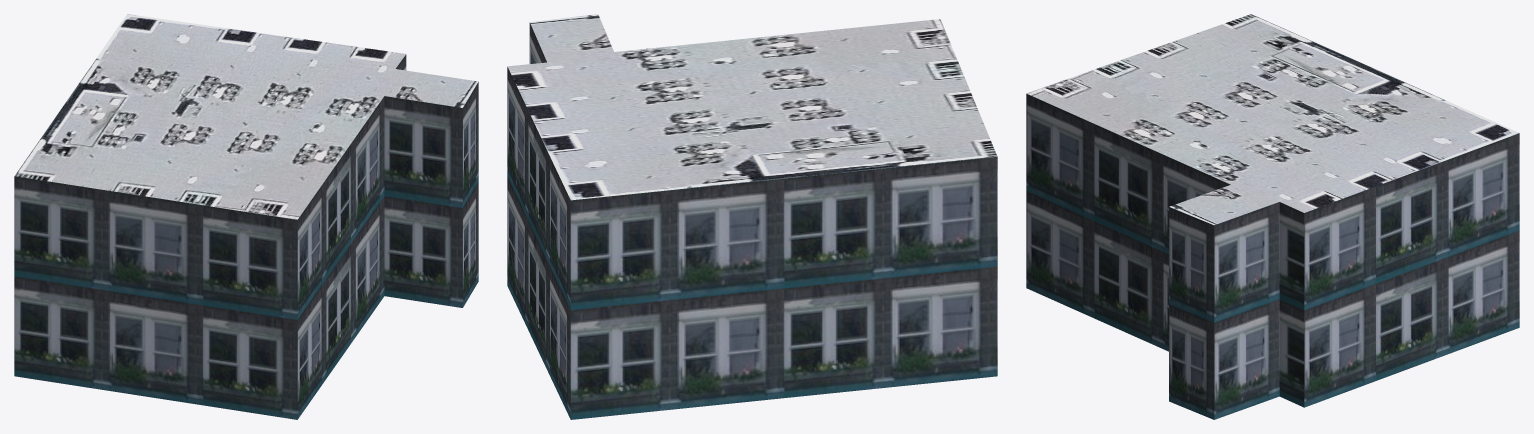
The model's file is ResTex__1719.fbx.
The picture shows the model from 3 angles, left to right: view 1: azimuth 30°, elevation 25°; view 2: azimuth 150°, elevation 25°; view 3: azimuth 270°, elevation 25°; orthographic projection. The views are drawn at different scales.
Parts seen in each view (by area): view 1: CityEngineMaterial_11_m, CityEngineMaterial_8_m; view 2: CityEngineMaterial_11_m, CityEngineMaterial_8_m; view 3: CityEngineMaterial_11_m, CityEngineMaterial_8_m.
Part boxes in pixels (<box>): CityEngineMaterial_11_m: <box>14,54,478,419</box>; CityEngineMaterial_8_m: <box>14,14,478,219</box>; CityEngineMaterial_11_m: <box>507,22,997,419</box>; CityEngineMaterial_8_m: <box>507,14,997,200</box>; CityEngineMaterial_11_m: <box>1026,93,1519,419</box>; CityEngineMaterial_8_m: <box>1027,14,1518,225</box>.
Bounding box in the file's own units: 13.97 × 6 × 13.78.
Materials: 2 (2 with a texture image).
